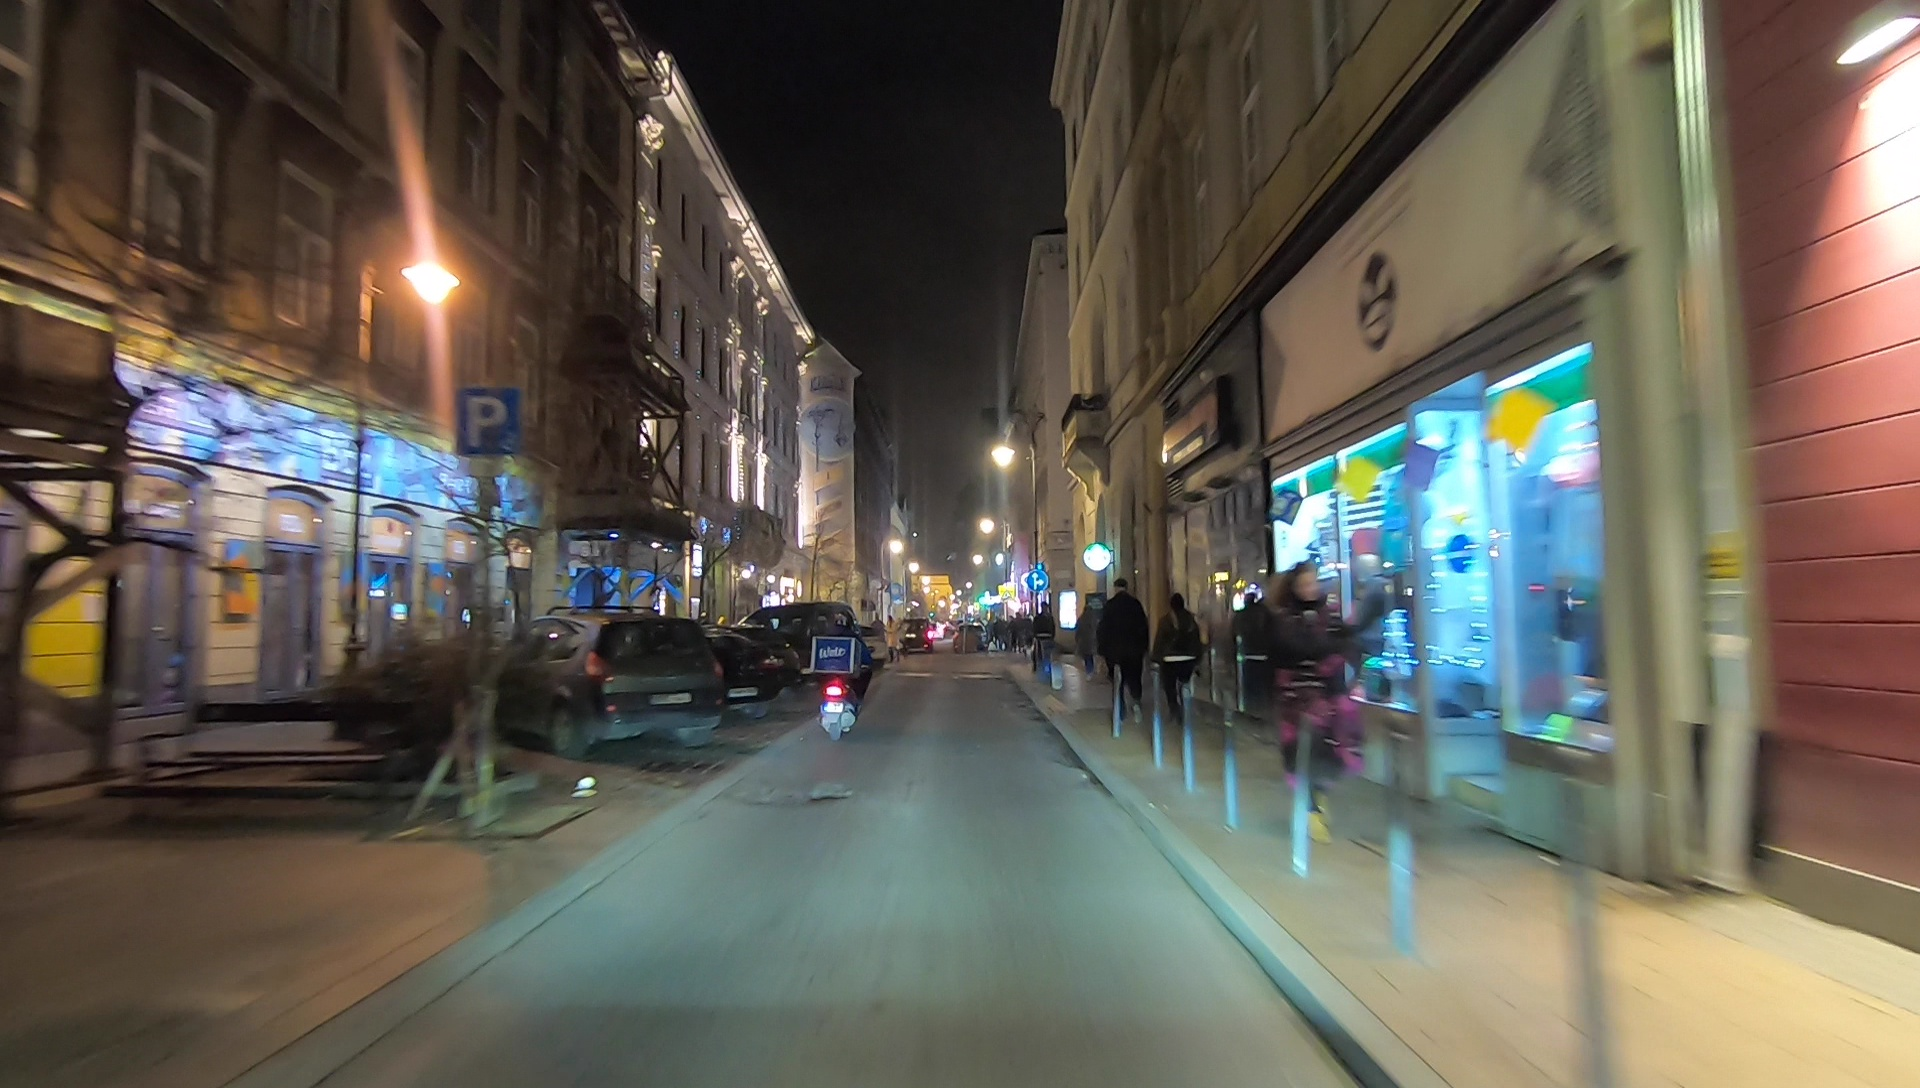person: (1264, 569, 1365, 845), (1099, 576, 1152, 723), (1158, 593, 1199, 730)
